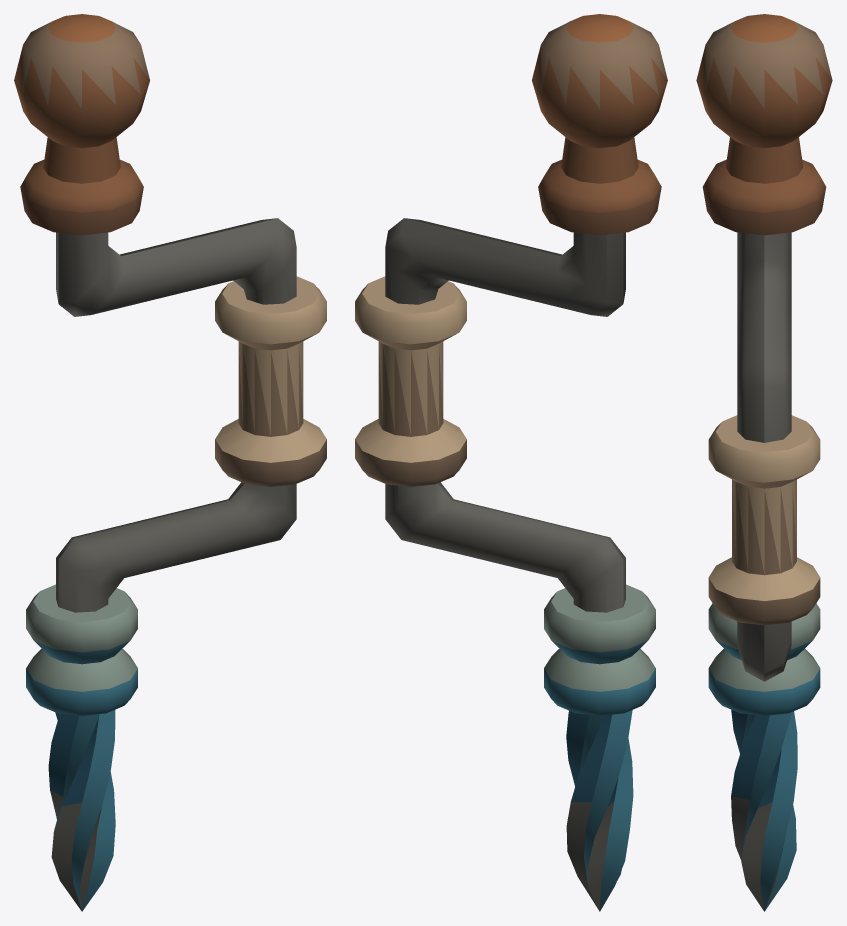
The model's file is itch_kaykit_rpg_tools_handdrill.glb.
3 views of the same model, side by side, from view 1: azimuth 30°, elevation 25°; view 2: azimuth 150°, elevation 25°; view 3: azimuth 270°, elevation 25° (orthographic).
Visible parts, largest first — view 1: handdrill; view 2: handdrill; view 3: handdrill.
Part boxes in pixels (x1,y1,x2,y2): handdrill: (14,14,326,911); handdrill: (355,14,667,911); handdrill: (696,14,832,911).
Size of the model in its own units: 0.733 by 2.1 by 0.2917.
